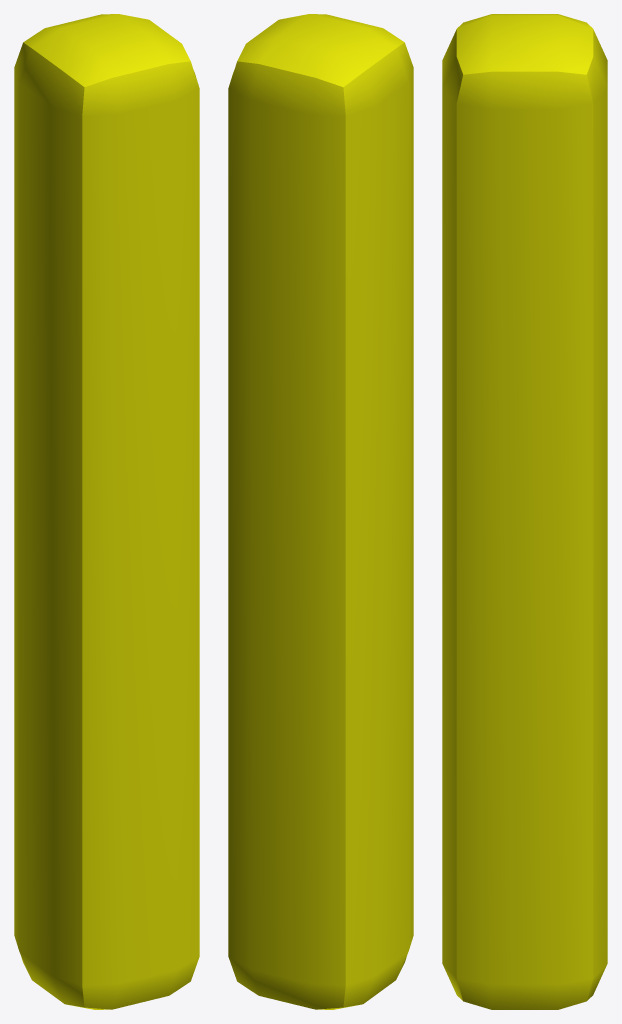
Rendered from Papita.fbx.
3 renders of one model, left to right at view 1: azimuth 30°, elevation 25°; view 2: azimuth 150°, elevation 25°; view 3: azimuth 270°, elevation 25°, orthographic.
Visible parts, largest first — view 1: pCube1; view 2: pCube1; view 3: pCube1.
Boxes of the visible parts, x1,y1,x2,y2 form: pCube1: (14,14,199,1009); pCube1: (228,14,413,1009); pCube1: (442,14,607,1009).
Size of the model in its own units: 2.71 by 17.42 by 2.71.
